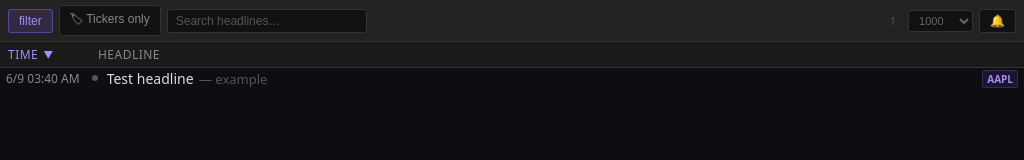
Test: Filter mode — ticker tag click › clicking a ticker tag filters the feed and shows active-ticker-pill
What coordinates should you click on to do the following:
click the text with class "ticker-tag"
I would click on:
 (1000, 79)
Its box is [982, 70, 1018, 88].
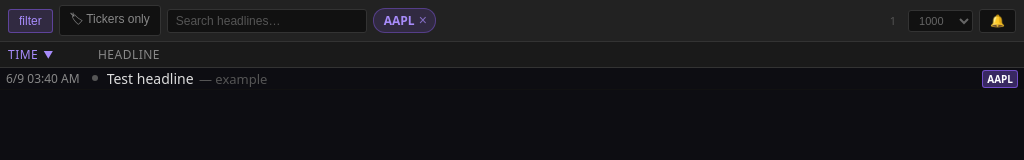
Expected: the element with class "active-ticker-pill" is shown, [373, 8, 436, 33]
Expected: the element with class "active-ticker-pill" shows "AAPL", [384, 12, 415, 29]
